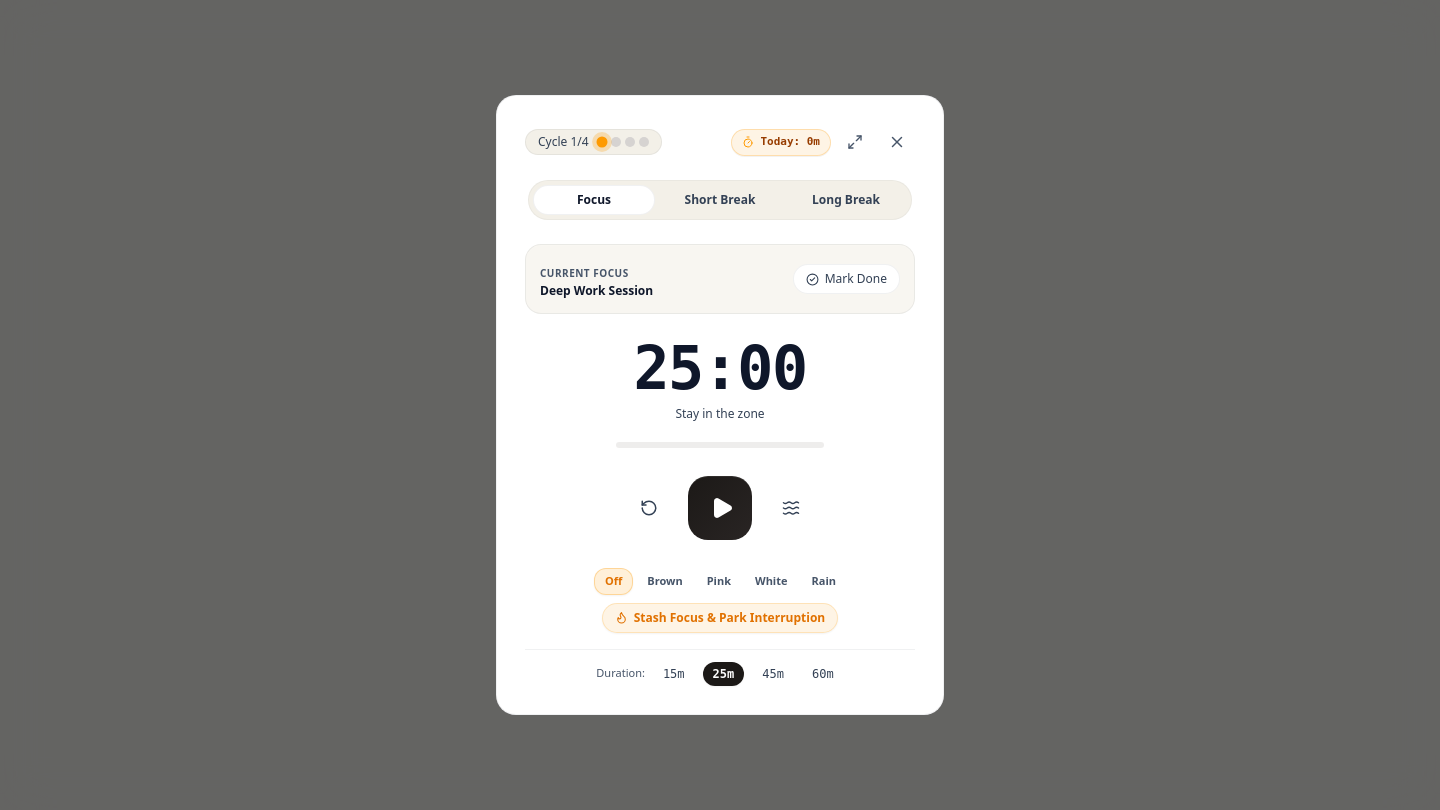
Test: PomodoroModal Component › switches to Zen fullscreen mode with solid theme background when fullscreen button is clicked
Step 1. Click the button titled "zen fullscreen mode" → (855, 142), box x1=837 y1=124 x2=873 y2=160
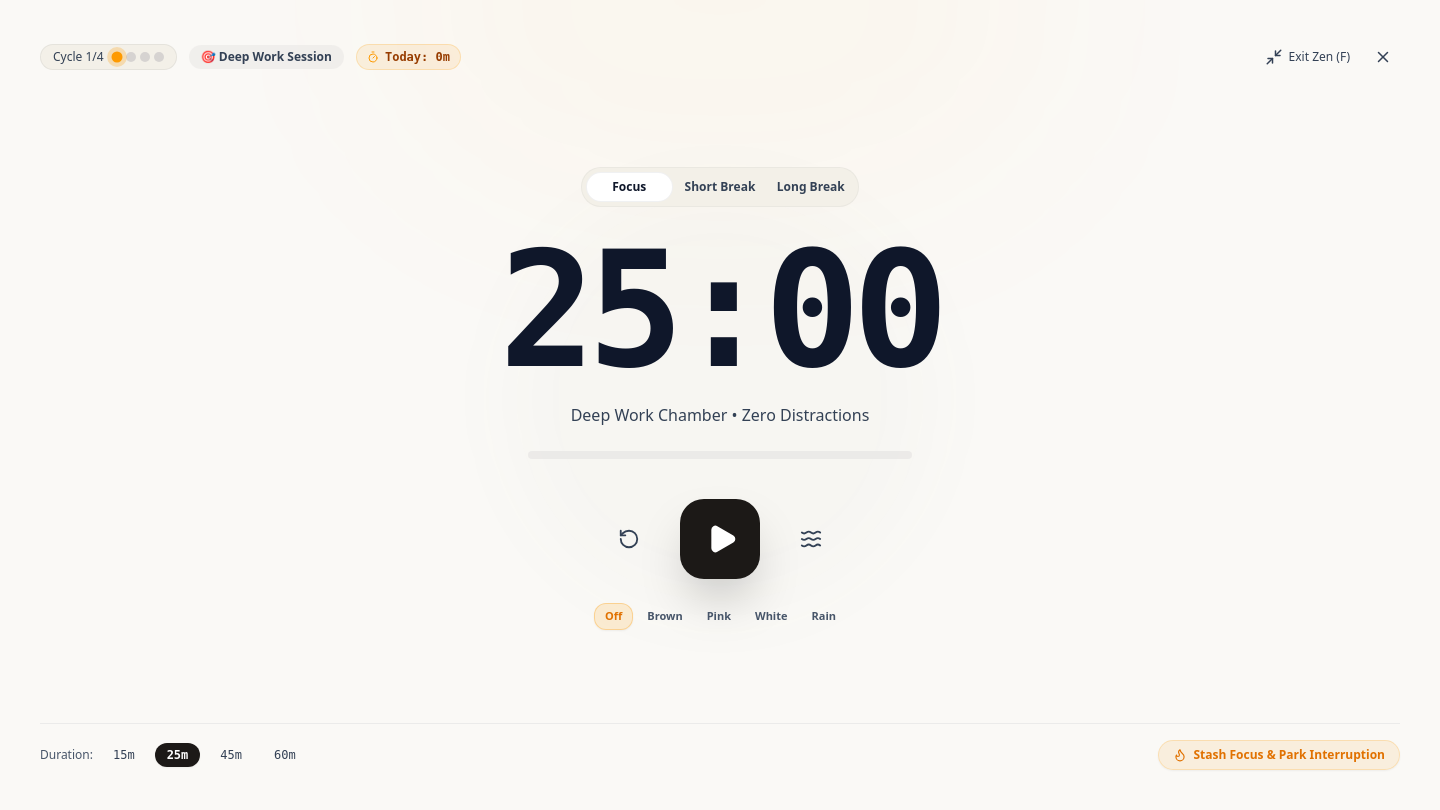
Expected: the dialog named "zen focus mode" is shown
Expected: the button titled "exit zen fullscreen" is shown, x1=1257 y1=40 x2=1358 y2=74
Expected: the text "Deep Work Chamber • Zero Distractions" is shown, x1=571 y1=403 x2=869 y2=427
